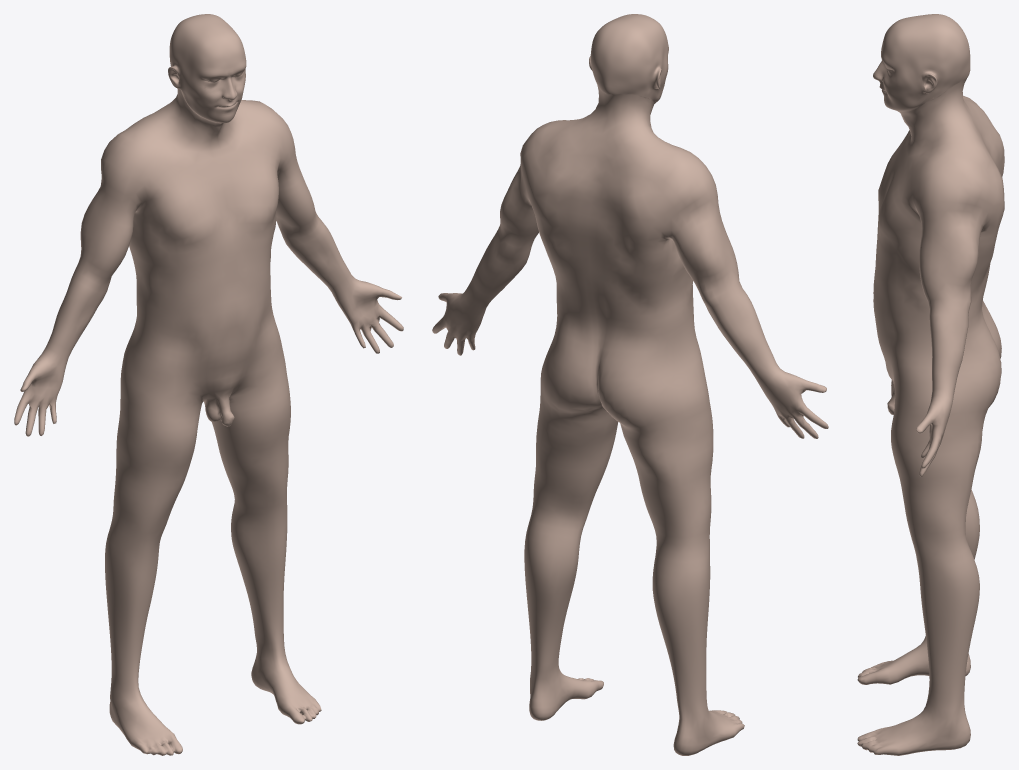
Rendered from VHM_Skin_Low.fbx.
The picture shows the model from 3 angles, left to right: view 1: azimuth 30°, elevation 25°; view 2: azimuth 150°, elevation 25°; view 3: azimuth 270°, elevation 25°; orthographic projection.
Visible parts, largest first — view 1: VHM_Skin_Low; view 2: VHM_Skin_Low; view 3: VHM_Skin_Low.
Part boxes in pixels (<box>): VHM_Skin_Low: <box>14,14,403,755</box>; VHM_Skin_Low: <box>432,14,828,755</box>; VHM_Skin_Low: <box>857,14,1004,755</box>.
Bounding box in the file's own units: 132 × 225 × 43.2.
